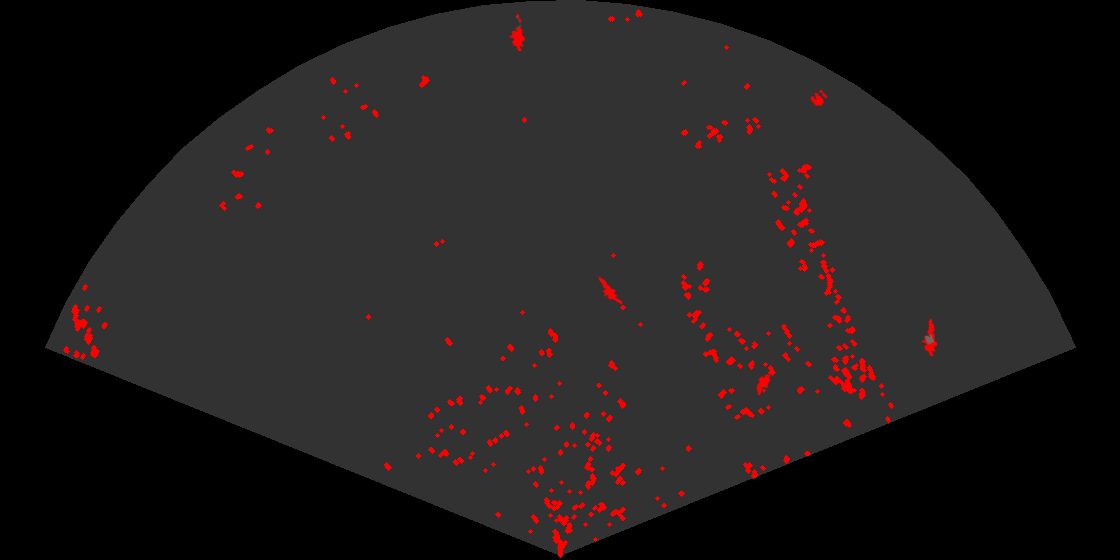AUV: (755, 372, 772, 397)
ball: (809, 88, 829, 108)
frogman: (594, 275, 622, 305), (920, 316, 939, 356), (508, 11, 527, 51)
